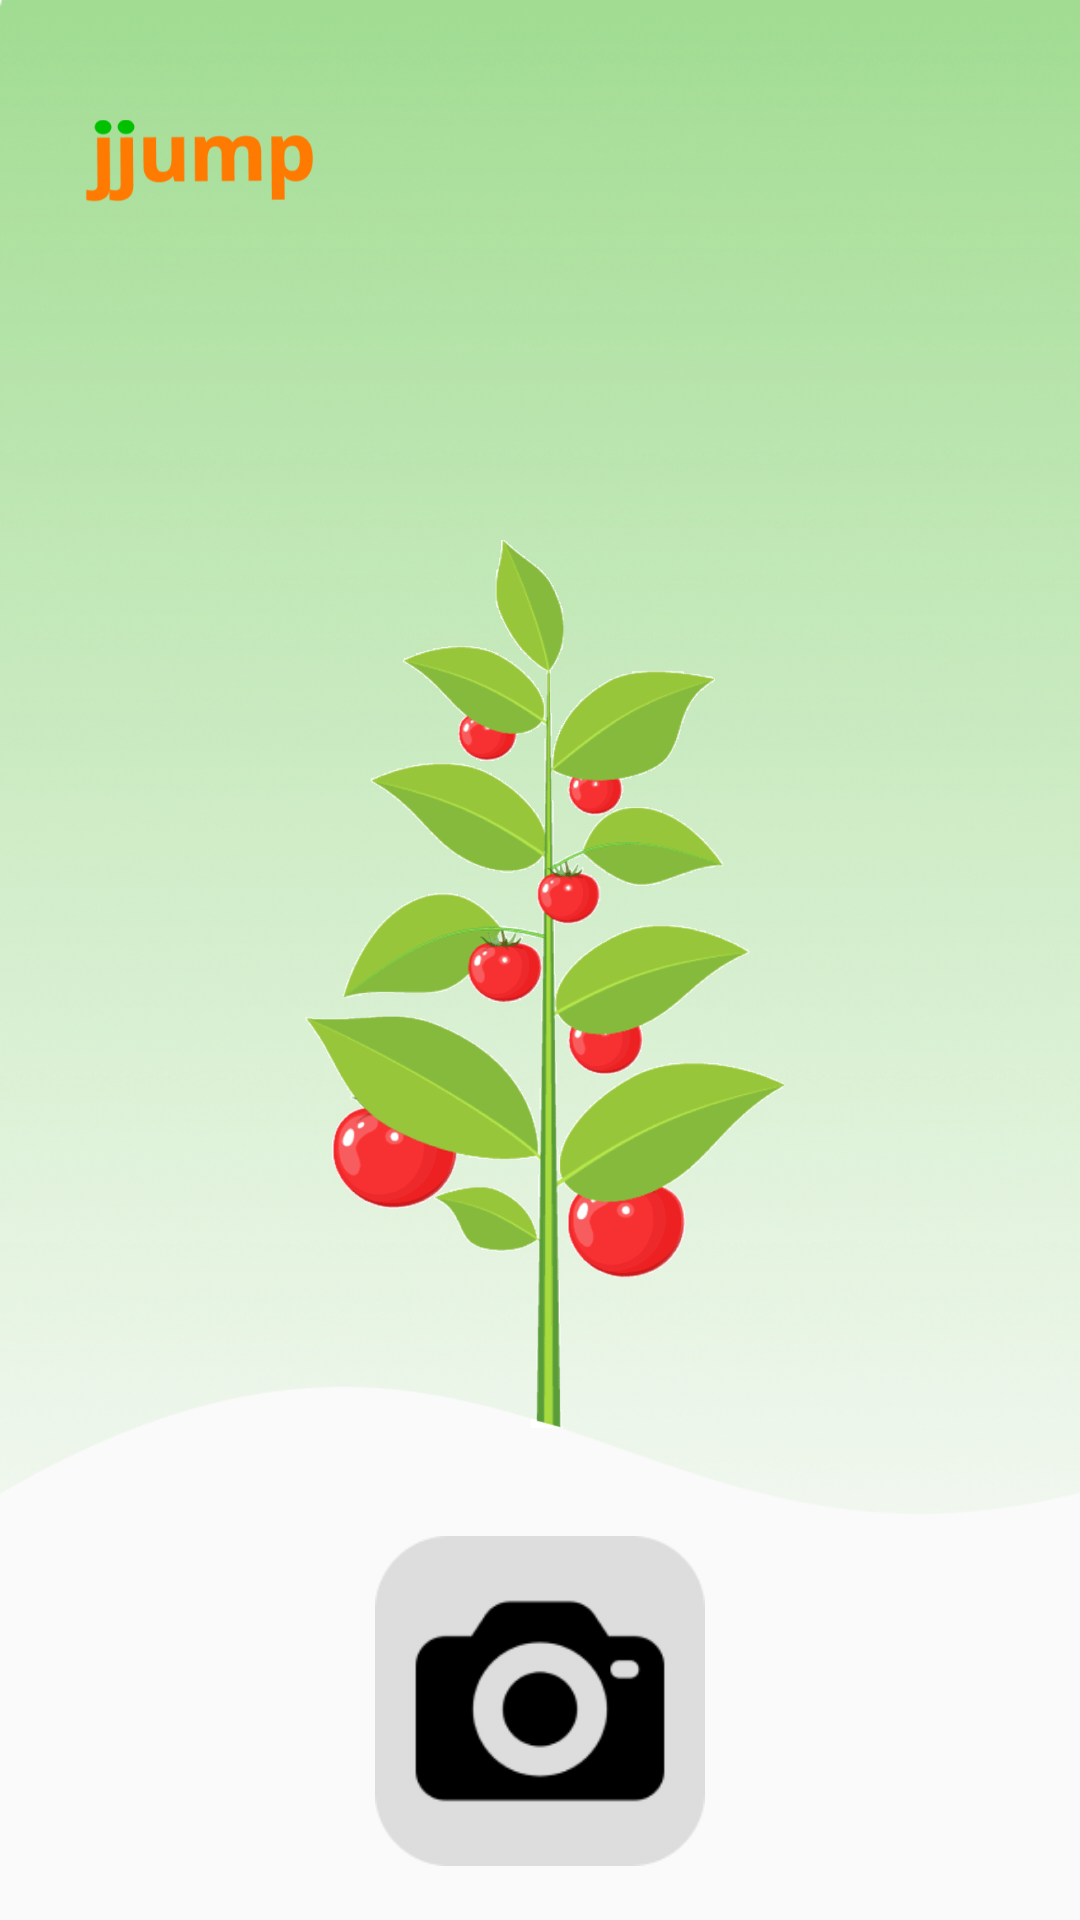

Point at icon controls on the screen. Image size 1080×1920, points as [x,y].
camera: [540,1701]
